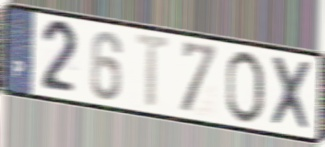2: (37, 18, 83, 99)
6: (89, 29, 124, 103)
7: (179, 39, 219, 117)
O: (224, 48, 266, 126)
T: (133, 30, 174, 112)
X: (269, 53, 314, 135)
